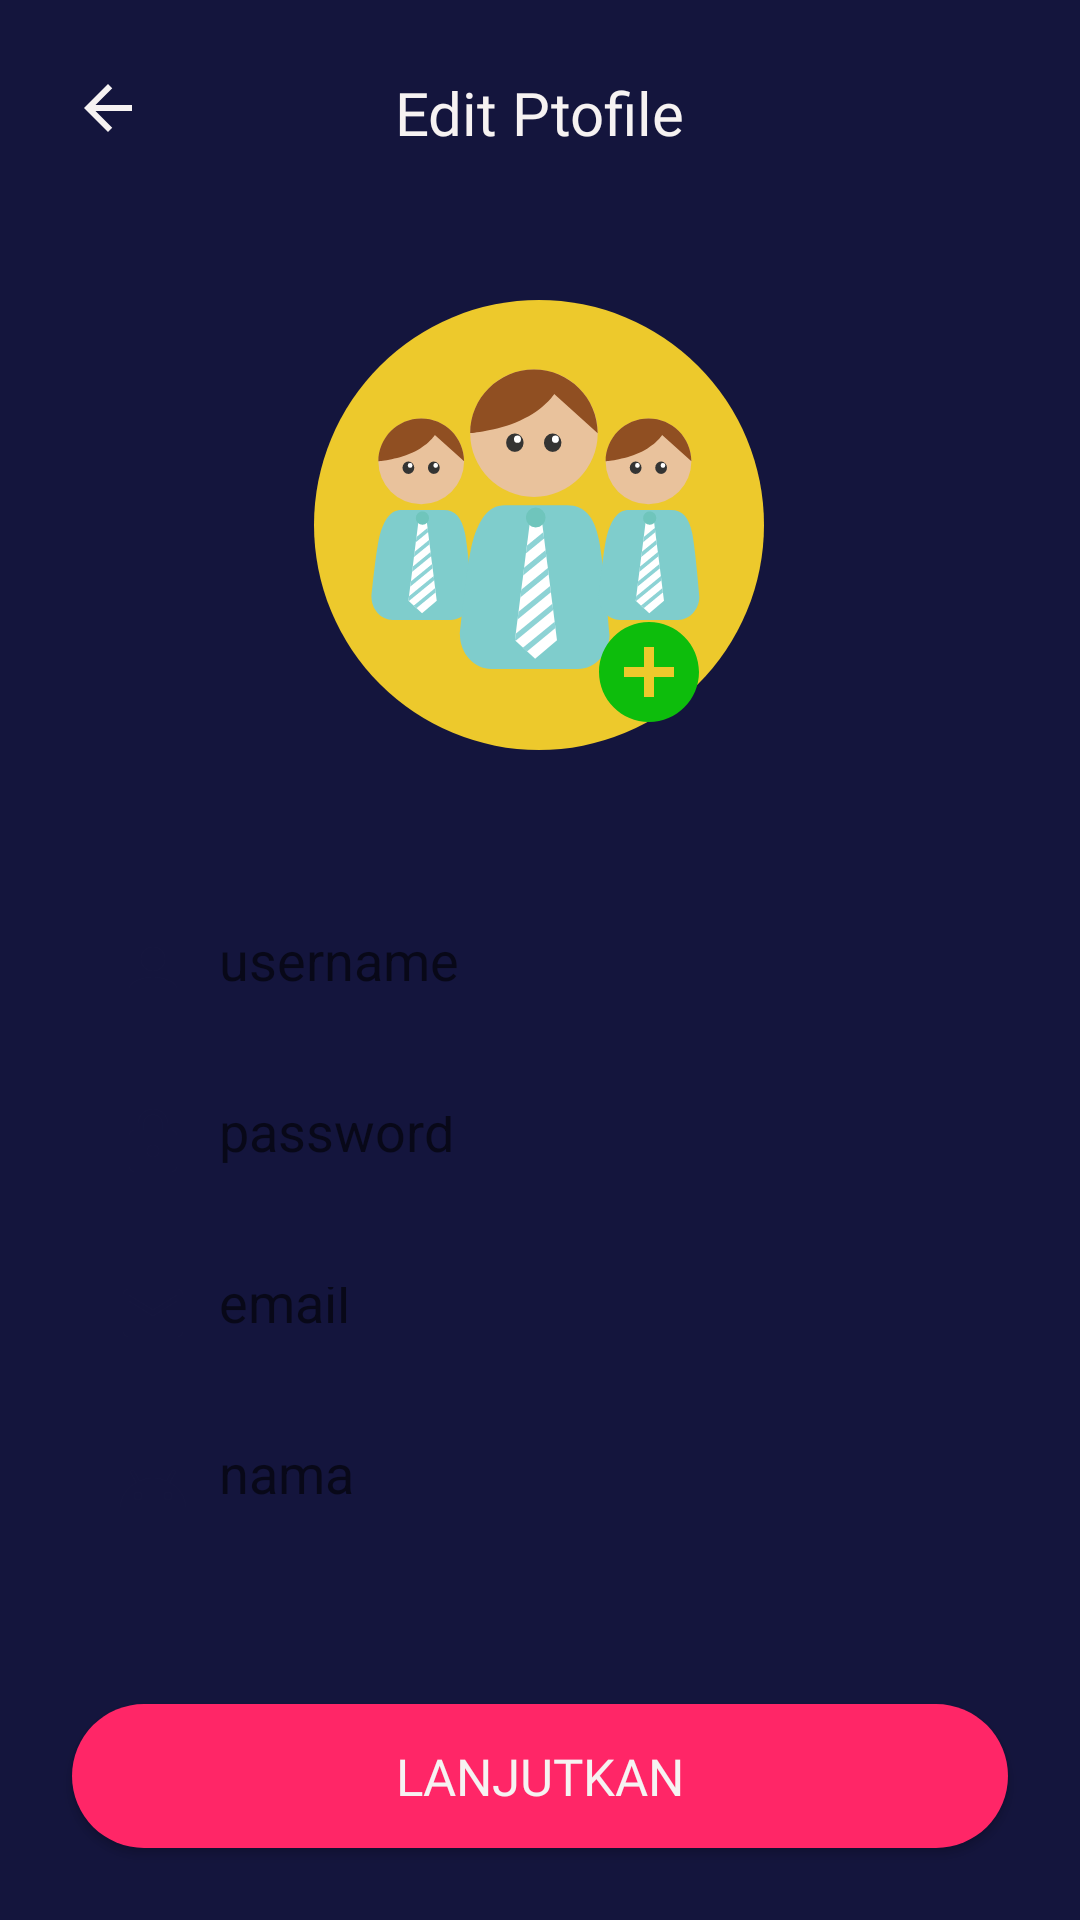

Icon click points for this 1080w x 1920h phone screenshot, format (x=x, y=y):
add circle: (x=649, y=672)
arrow back: (x=108, y=108)
